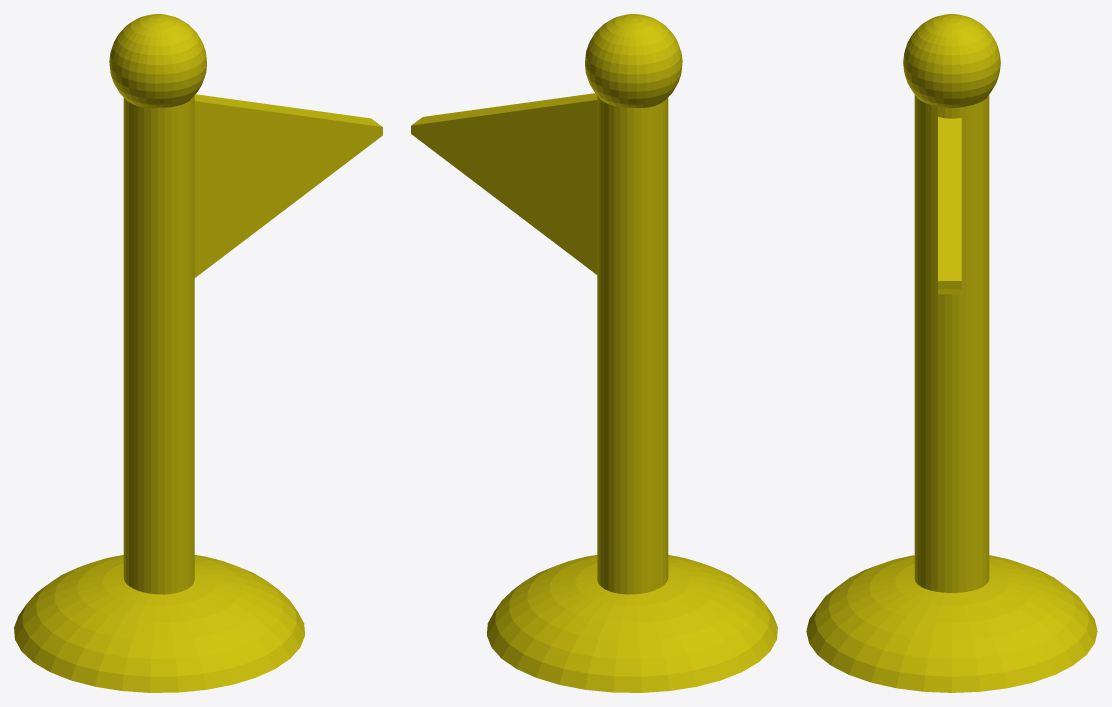
The model's file is Goal.obj.
The picture shows the model from 3 angles, left to right: view 1: azimuth 30°, elevation 25°; view 2: azimuth 150°, elevation 25°; view 3: azimuth 270°, elevation 25°; orthographic projection.
Parts seen in each view (by area): view 1: 球.001; view 2: 球.001; view 3: 球.001.
Part boxes in pixels (box(x1,y1,x2,y2)): 球.001: box(14, 14, 382, 692); 球.001: box(411, 14, 777, 692); 球.001: box(806, 14, 1097, 692).
Size of the model in its own units: 1.08 by 1.85 by 0.7977.
